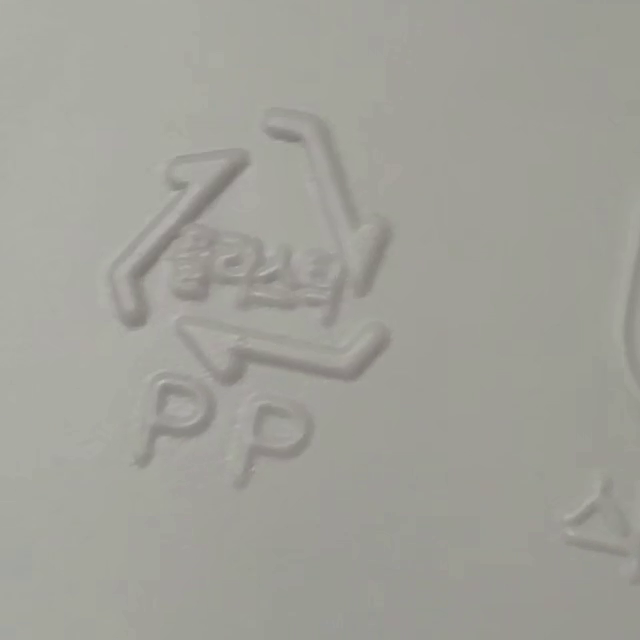Plastic: (106, 107, 393, 387)
